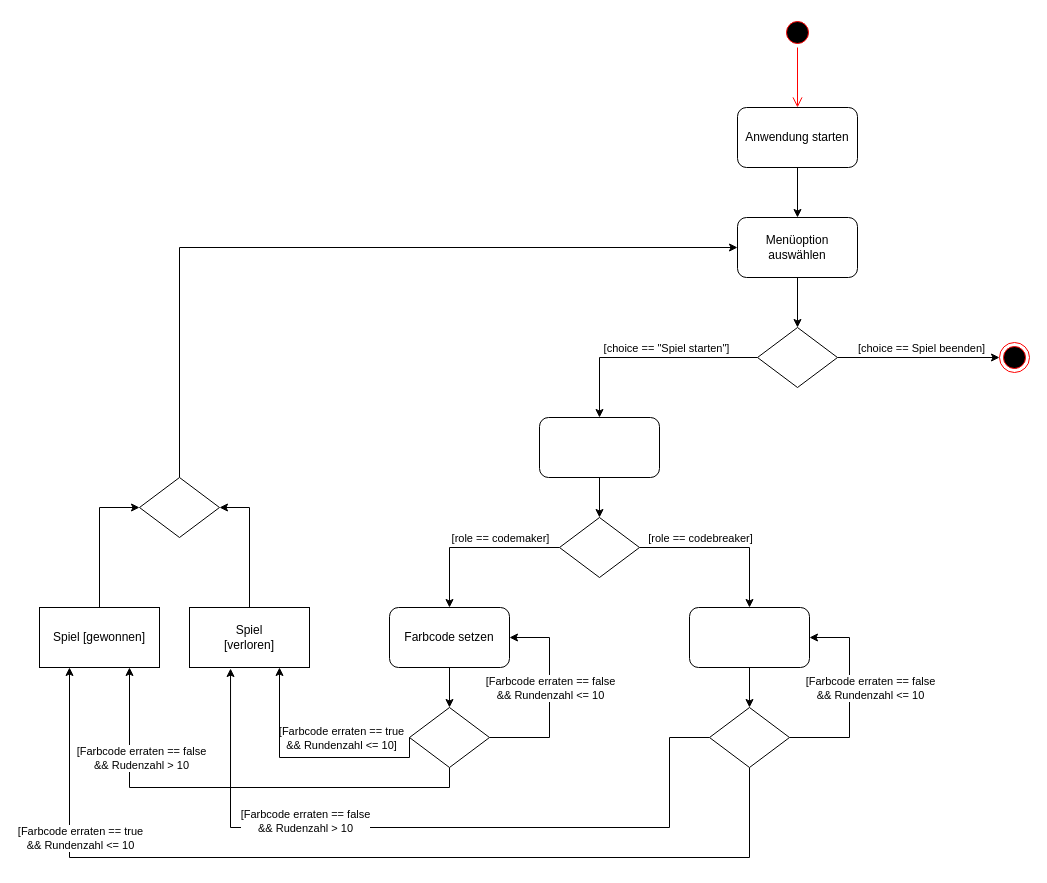
This 1047x883 diagram has some shape labels left out. Here are the shapes that lost their labels. From the top down, the box of each, then its label:
(538, 416, 660, 478): Rolle wählen
(688, 606, 810, 668): Farbcode erraten
